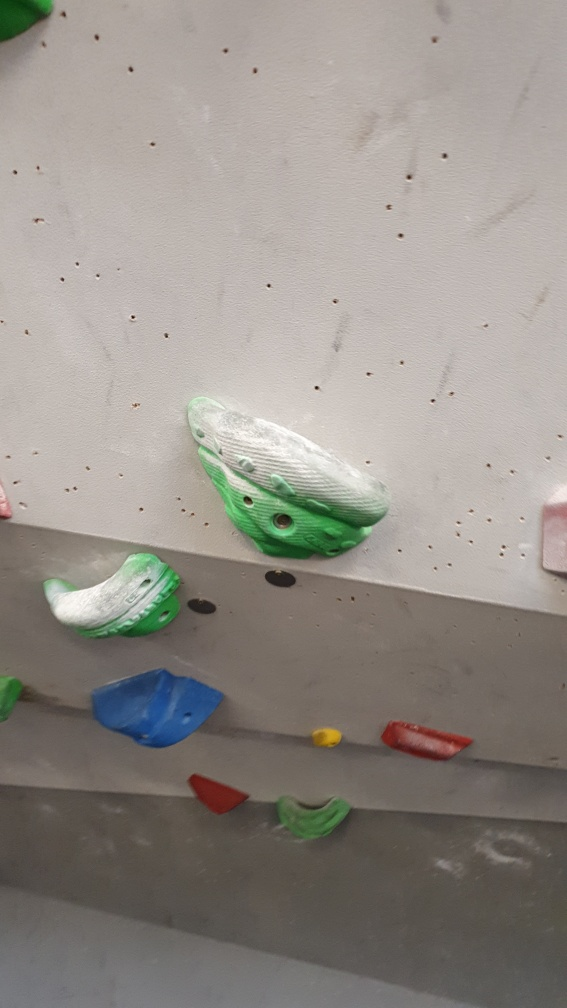Crimp: (378, 715, 475, 765)
Hand Start: (262, 567, 299, 594), (187, 594, 219, 617)
Jug: (182, 389, 398, 568), (43, 545, 186, 641), (272, 788, 354, 841)
Pinch: (91, 664, 227, 751)
